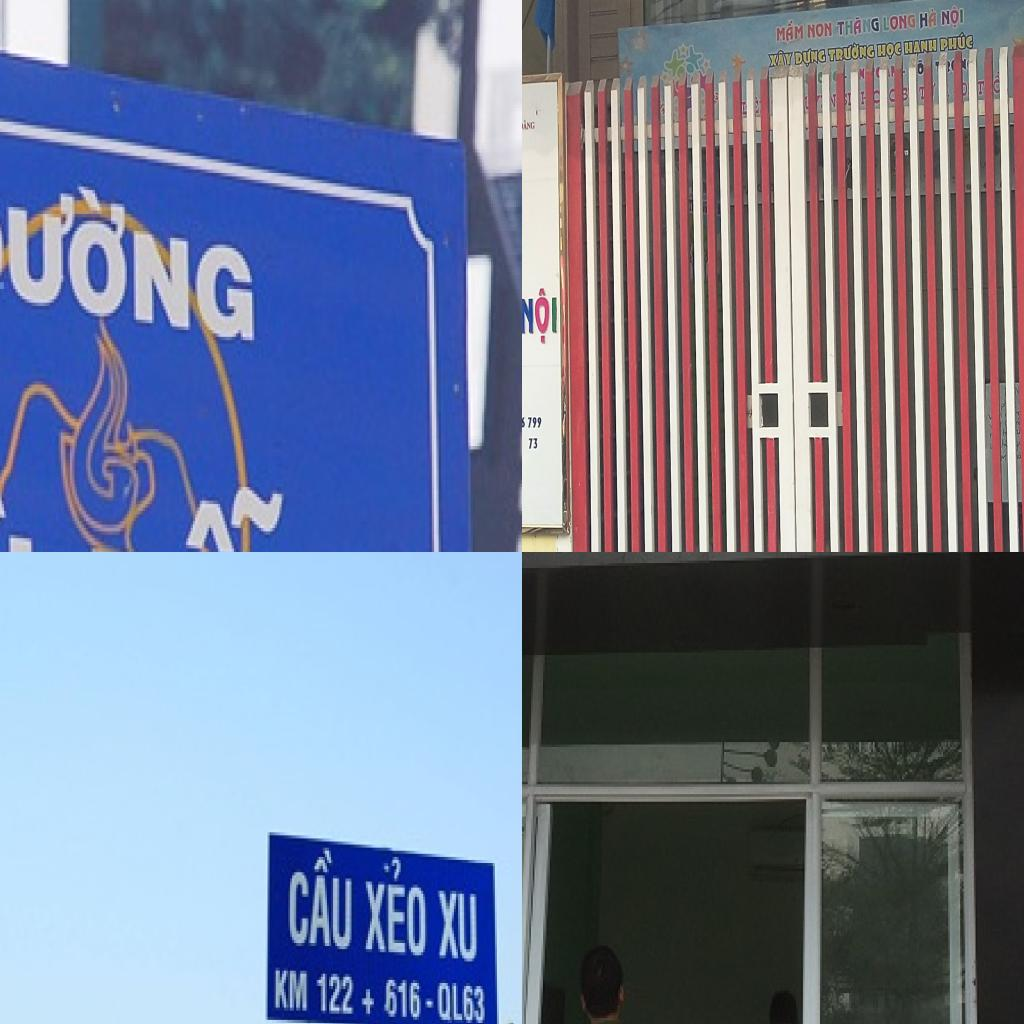text: (0, 166, 256, 347), (288, 842, 356, 956), (364, 857, 429, 961), (438, 888, 480, 968), (522, 282, 557, 346), (314, 971, 358, 1020), (274, 964, 310, 1017), (826, 40, 875, 65), (836, 12, 880, 38), (881, 10, 917, 34), (939, 29, 974, 53), (793, 45, 828, 68), (774, 18, 804, 44), (902, 36, 938, 56), (940, 3, 965, 30), (766, 48, 794, 70), (874, 39, 902, 60), (362, 986, 378, 1020), (806, 21, 834, 40), (918, 6, 938, 32), (522, 415, 542, 429), (992, 68, 1000, 95), (976, 78, 986, 97), (522, 118, 535, 132), (526, 436, 538, 450), (888, 86, 896, 104), (918, 84, 926, 100), (874, 88, 880, 106), (902, 86, 908, 102), (847, 89, 852, 106)
